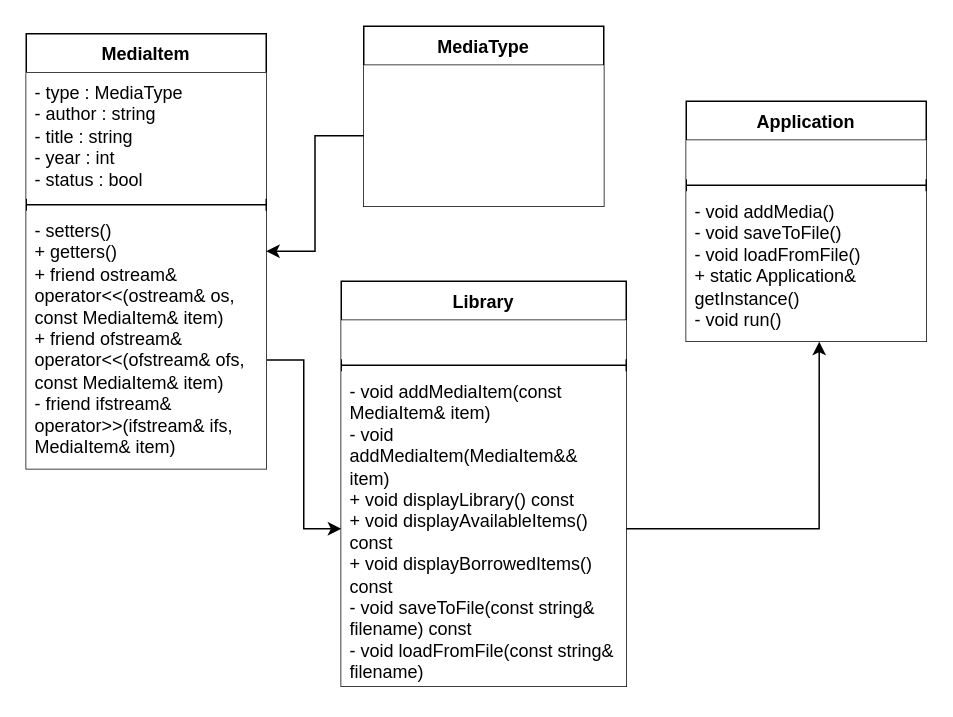
Some shapes in this 953 by 717 pixel diagram are drawn without their labels. The shapes that lost their labels are listed below. From the top down, each one's box as (x1, y1, x2, y2) in pixels, then its label:
(363, 64, 603, 206): Book Magazine AudioCD CDROM Cassette VideoCassette
(686, 140, 926, 178): - library : Library
(340, 320, 626, 358): - items : vector <MediaItem>
